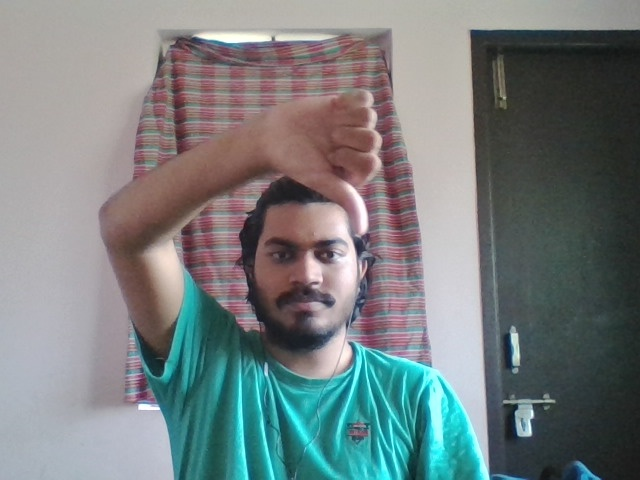ThumbsDown: (271, 90, 382, 238)
